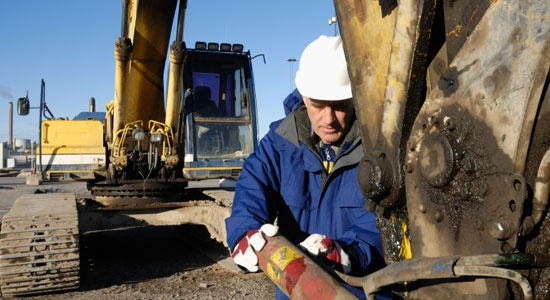white: (295, 34, 356, 145)
